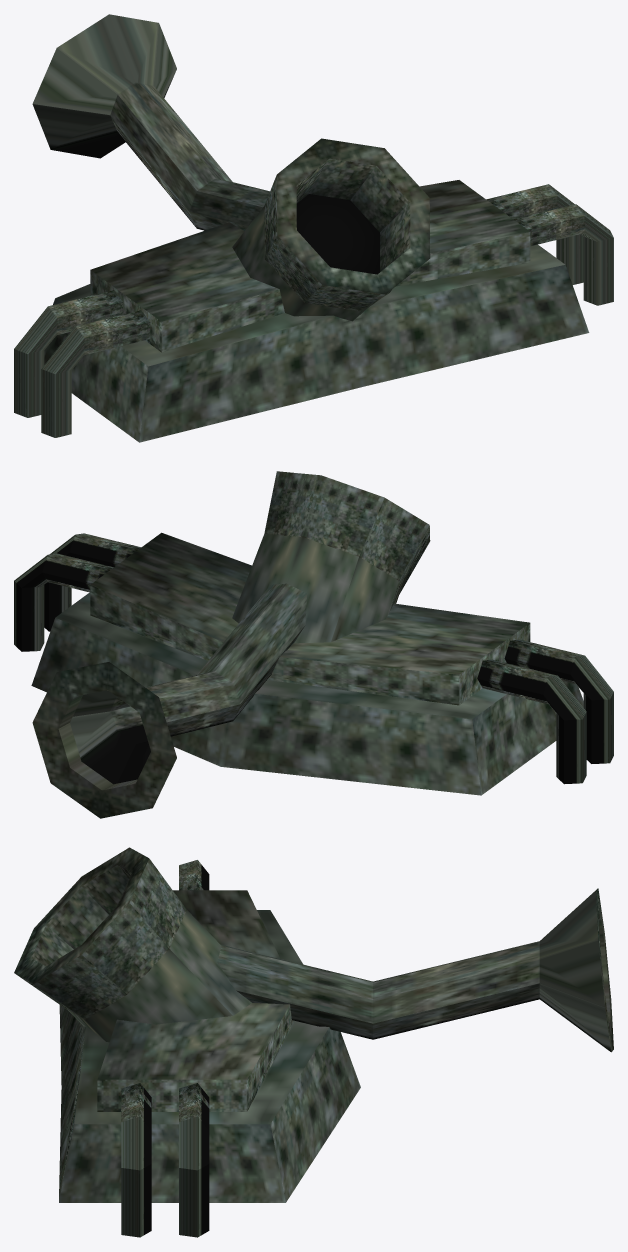
File: Dispersal Machine.glb
3 views of the same model, one above another, from view 1: azimuth 30°, elevation 25°; view 2: azimuth 150°, elevation 25°; view 3: azimuth 270°, elevation 25° (orthographic). The views are drawn at different scales.
Parts seen in each view (by area): view 1: Cube; view 2: Cube; view 3: Cube.
Boxes of the visible parts, bbox=[...] form: Cube: bbox=[14, 14, 613, 442]; Cube: bbox=[14, 471, 613, 818]; Cube: bbox=[14, 847, 613, 1237].
Bounding box in the file's own units: 5.01 × 2.04 × 4.35.
1 material, 1 textured.
